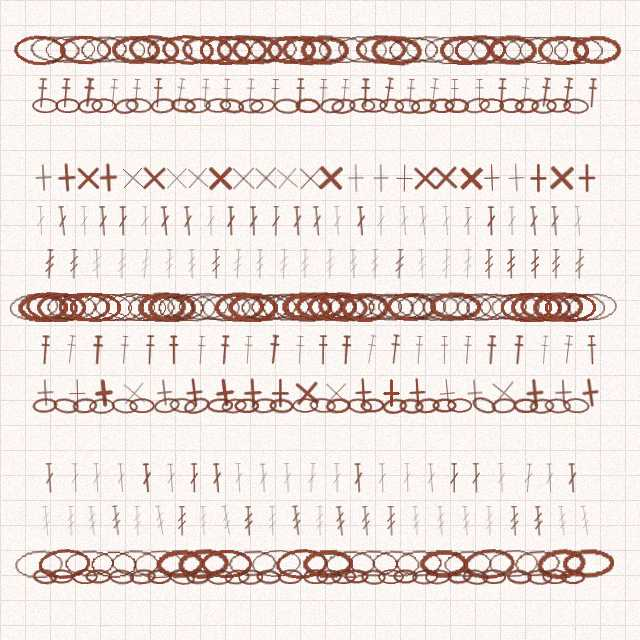chain: (535, 546, 588, 581), (7, 290, 61, 324), (37, 547, 92, 580), (28, 33, 81, 66), (127, 33, 180, 66), (161, 33, 214, 66), (25, 290, 78, 323), (250, 547, 303, 580), (275, 547, 328, 580), (463, 547, 516, 580), (13, 34, 67, 66), (409, 290, 461, 323), (177, 547, 229, 580), (231, 34, 284, 66), (200, 291, 253, 323), (464, 291, 517, 323), (566, 291, 619, 323), (317, 290, 368, 323), (512, 547, 563, 580), (181, 34, 233, 66), (281, 34, 333, 66), (370, 34, 422, 66), (165, 291, 217, 323), (189, 291, 241, 323), (489, 291, 541, 323), (519, 291, 571, 323), (13, 548, 65, 580), (132, 548, 184, 580), (370, 548, 422, 580), (442, 548, 494, 580), (487, 548, 540, 579), (155, 548, 206, 580), (44, 34, 96, 65), (216, 34, 268, 65), (336, 34, 388, 65), (355, 34, 407, 65), (404, 34, 456, 65), (454, 34, 506, 65), (471, 34, 523, 65), (104, 291, 156, 322), (177, 291, 229, 322), (271, 291, 323, 322), (396, 291, 448, 322), (429, 291, 481, 322), (63, 548, 115, 579), (226, 548, 278, 579), (347, 548, 399, 579), (562, 548, 614, 579), (81, 292, 134, 322), (115, 292, 168, 322), (500, 292, 553, 322), (95, 34, 146, 65), (247, 34, 298, 65), (214, 291, 265, 322), (260, 291, 311, 322), (281, 291, 332, 322), (532, 291, 583, 322), (110, 548, 161, 579), (59, 35, 111, 65), (199, 35, 251, 65), (317, 35, 369, 65), (387, 35, 439, 65), (439, 35, 491, 65), (518, 35, 570, 65), (537, 35, 589, 65), (552, 35, 604, 65), (45, 292, 97, 322), (58, 292, 110, 322), (69, 292, 121, 322), (93, 292, 145, 322), (352, 292, 404, 322), (441, 292, 493, 322), (510, 292, 562, 322), (544, 292, 596, 322), (201, 549, 253, 579), (324, 549, 376, 579), (79, 34, 129, 65), (300, 34, 350, 65), (488, 34, 538, 65), (137, 291, 187, 322), (295, 291, 345, 322), (366, 291, 416, 322), (455, 291, 505, 322), (394, 548, 444, 579), (266, 35, 317, 65), (423, 35, 474, 65), (503, 35, 554, 65), (17, 292, 68, 322), (125, 292, 176, 322), (227, 292, 278, 322), (239, 292, 290, 322), (307, 292, 358, 322), (376, 292, 427, 322), (386, 292, 437, 322), (420, 292, 471, 322), (477, 292, 528, 322), (556, 292, 607, 322), (302, 549, 353, 579), (111, 35, 161, 65), (145, 35, 195, 65), (572, 35, 622, 65), (36, 292, 86, 322), (147, 292, 197, 322), (156, 292, 206, 322), (249, 292, 299, 322), (327, 292, 377, 322), (340, 292, 390, 322), (89, 549, 139, 579), (419, 549, 469, 579), (470, 394, 498, 417), (182, 395, 211, 416), (463, 96, 491, 115), (153, 396, 181, 415), (52, 397, 80, 415), (168, 568, 196, 586), (113, 97, 140, 115), (218, 97, 245, 115), (249, 97, 276, 115), (330, 97, 357, 115), (410, 97, 437, 115), (111, 397, 138, 415), (346, 397, 373, 415), (462, 568, 489, 586), (221, 397, 247, 415), (382, 397, 408, 415), (224, 568, 250, 586), (125, 97, 152, 114), (184, 97, 211, 114), (169, 397, 196, 414), (309, 397, 336, 414), (563, 397, 590, 414), (129, 568, 156, 585), (77, 97, 103, 114), (150, 97, 176, 114), (170, 97, 196, 114), (319, 97, 345, 114), (514, 97, 540, 114), (32, 397, 58, 414), (72, 397, 98, 414), (251, 397, 277, 414), (325, 397, 351, 414), (414, 397, 440, 414), (491, 397, 517, 414), (32, 568, 58, 585), (447, 568, 473, 585), (544, 398, 571, 414), (238, 98, 264, 114), (274, 98, 300, 114), (394, 98, 420, 114), (531, 98, 557, 114), (563, 98, 589, 114), (89, 398, 115, 414), (529, 398, 555, 414), (207, 569, 233, 585), (316, 569, 342, 585), (412, 569, 438, 585), (425, 569, 451, 585), (506, 569, 532, 585), (379, 98, 404, 114), (269, 398, 294, 414), (399, 398, 424, 414), (109, 569, 134, 585), (186, 569, 211, 585), (238, 569, 263, 585), (256, 569, 281, 585), (361, 569, 386, 585), (527, 569, 552, 585), (32, 98, 58, 113), (205, 98, 231, 113), (349, 98, 375, 113), (361, 98, 387, 113), (129, 398, 155, 413), (207, 398, 233, 413), (292, 398, 318, 413), (72, 569, 98, 584), (85, 569, 111, 584), (378, 569, 404, 584), (55, 98, 80, 113), (91, 98, 116, 113), (295, 98, 320, 113), (429, 98, 454, 113), (444, 98, 469, 113), (479, 98, 504, 113), (499, 98, 524, 113), (546, 98, 571, 113), (234, 398, 259, 413), (360, 398, 385, 413), (432, 398, 457, 413), (447, 398, 472, 413), (513, 398, 538, 413), (49, 569, 74, 584), (147, 569, 172, 584), (278, 569, 303, 584), (303, 569, 328, 584), (331, 569, 356, 584), (344, 569, 369, 584), (393, 569, 418, 584), (481, 569, 506, 584), (542, 569, 567, 584), (560, 569, 585, 584)
double: (56, 206, 69, 236), (97, 206, 109, 236), (159, 206, 171, 236), (182, 206, 194, 236), (311, 206, 323, 236), (355, 206, 367, 236), (398, 206, 410, 236), (417, 206, 429, 236), (440, 206, 452, 236), (528, 206, 540, 236), (549, 206, 561, 236), (572, 206, 584, 236), (115, 463, 127, 493), (141, 463, 153, 493), (165, 463, 177, 493), (211, 463, 223, 493), (306, 463, 318, 493), (425, 463, 437, 493), (522, 463, 534, 493), (35, 206, 46, 236), (248, 206, 259, 236), (292, 206, 303, 236), (332, 206, 343, 236), (44, 463, 55, 493), (91, 463, 102, 493), (233, 463, 244, 493), (258, 463, 269, 493), (282, 463, 293, 493), (353, 463, 364, 493), (496, 463, 507, 493), (544, 463, 555, 493), (567, 463, 578, 493), (79, 206, 89, 236), (118, 206, 128, 236), (140, 206, 150, 236), (206, 206, 216, 236), (226, 206, 236, 236), (271, 206, 281, 236), (376, 206, 386, 236), (463, 206, 473, 236), (486, 206, 496, 236), (507, 206, 517, 236), (70, 463, 80, 493), (189, 463, 199, 493), (332, 463, 342, 493), (377, 463, 387, 493), (402, 463, 412, 493), (449, 463, 459, 493), (471, 463, 481, 493)
half_double: (363, 334, 379, 365), (81, 77, 96, 108), (173, 77, 188, 108), (381, 77, 396, 108), (538, 77, 553, 108), (560, 77, 575, 108), (560, 334, 575, 365), (427, 77, 441, 108), (518, 77, 532, 108), (64, 334, 78, 365), (267, 334, 281, 365), (388, 334, 402, 365), (35, 78, 49, 108), (198, 78, 212, 108), (243, 78, 257, 108), (59, 78, 72, 108), (107, 78, 120, 108), (130, 78, 143, 108), (338, 78, 351, 108), (404, 78, 417, 108), (586, 78, 599, 108), (91, 335, 104, 365), (118, 335, 131, 365), (218, 335, 231, 365), (461, 335, 474, 365), (485, 335, 498, 365), (512, 335, 525, 365), (538, 335, 551, 365), (152, 78, 164, 108), (221, 78, 233, 108), (269, 78, 281, 108), (294, 78, 306, 108), (317, 78, 329, 108), (496, 78, 508, 108), (39, 335, 51, 365), (144, 335, 156, 365), (195, 335, 207, 365), (242, 335, 254, 365), (294, 335, 306, 365), (317, 335, 329, 365), (340, 335, 352, 365), (413, 335, 425, 365), (586, 335, 598, 365), (360, 78, 371, 108), (449, 78, 460, 108), (474, 78, 485, 108), (168, 335, 179, 365), (439, 335, 450, 365)
single: (148, 376, 181, 409), (178, 376, 211, 409), (208, 376, 241, 409), (487, 376, 520, 409), (574, 376, 607, 409), (271, 162, 303, 194), (88, 377, 120, 409), (118, 377, 150, 409), (291, 377, 323, 409), (431, 377, 463, 409), (459, 377, 491, 409), (519, 377, 551, 409), (28, 162, 59, 193), (51, 162, 82, 193), (93, 162, 124, 193), (117, 162, 148, 193), (182, 162, 213, 193), (250, 162, 281, 193), (315, 162, 346, 193), (430, 162, 461, 193), (476, 162, 507, 193), (546, 162, 577, 193), (30, 377, 61, 408), (237, 377, 268, 408), (348, 377, 379, 408), (402, 377, 433, 408), (548, 377, 579, 408), (501, 162, 531, 193), (73, 163, 103, 193), (139, 163, 169, 193), (205, 163, 235, 193), (228, 163, 258, 193), (295, 163, 325, 193), (341, 163, 371, 193), (366, 163, 396, 193), (389, 163, 419, 193), (410, 163, 440, 193), (456, 163, 486, 193), (523, 163, 553, 193), (572, 163, 602, 193), (62, 378, 92, 408), (265, 378, 295, 408), (321, 378, 351, 408), (376, 378, 406, 408), (162, 163, 191, 193)
treble: (219, 505, 234, 536), (153, 505, 167, 536), (578, 505, 592, 536), (110, 505, 123, 536), (290, 505, 303, 536), (86, 506, 99, 536), (334, 506, 347, 536), (556, 506, 569, 536), (139, 249, 151, 279), (40, 506, 52, 536), (360, 506, 372, 536), (410, 506, 422, 536), (435, 506, 447, 536), (460, 506, 472, 536), (44, 249, 55, 279), (91, 249, 102, 279), (232, 249, 243, 279), (278, 249, 289, 279), (348, 249, 359, 279), (394, 249, 405, 279), (416, 249, 427, 279), (462, 249, 473, 279), (574, 249, 585, 279), (132, 506, 143, 536), (198, 506, 209, 536), (243, 506, 254, 536), (484, 506, 495, 536), (509, 506, 520, 536), (533, 506, 544, 536), (69, 249, 79, 279), (117, 249, 127, 279), (164, 249, 174, 279), (187, 249, 197, 279), (211, 249, 221, 279), (255, 249, 265, 279), (300, 249, 310, 279), (325, 249, 335, 279), (370, 249, 380, 279), (441, 249, 451, 279), (484, 249, 494, 279), (506, 249, 516, 279), (530, 249, 540, 279), (551, 249, 561, 279), (66, 506, 76, 536), (177, 506, 187, 536), (267, 506, 277, 536), (315, 506, 325, 536), (386, 506, 396, 536)
